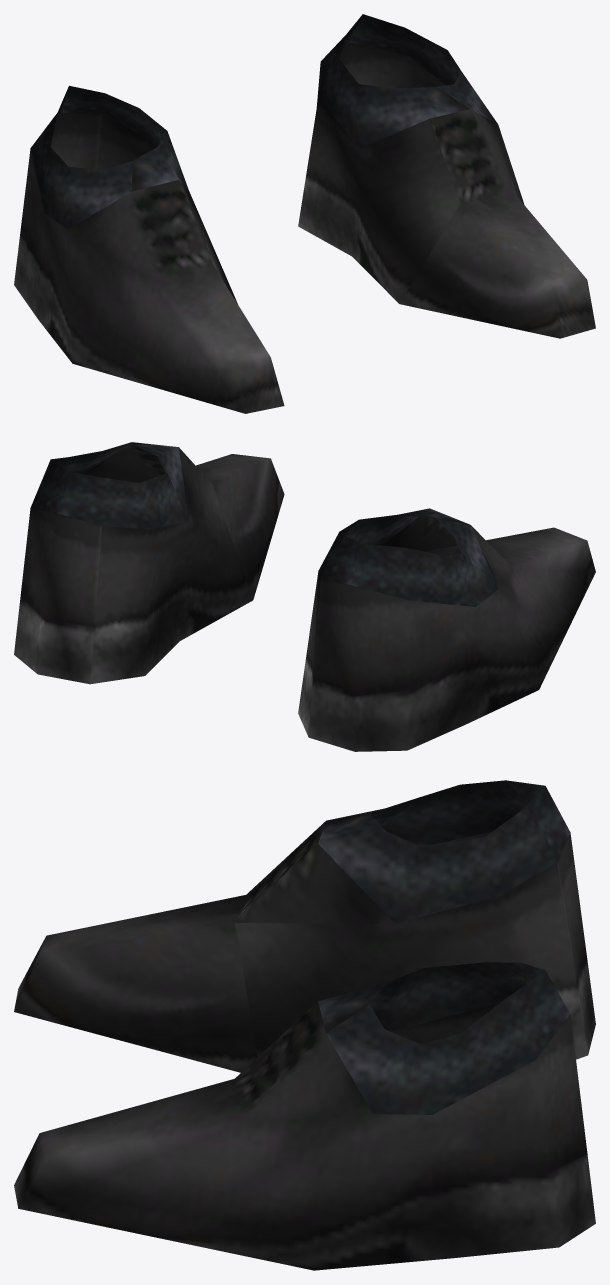
Rendered from m_Shoes1.glb.
The picture shows the model from 3 angles, top to bottom: view 1: azimuth 30°, elevation 25°; view 2: azimuth 150°, elevation 25°; view 3: azimuth 270°, elevation 25°; orthographic projection. The views are drawn at different scales.
Visible parts, largest first — view 1: Shoes1; view 2: Shoes1; view 3: Shoes1.
Part boxes in pixels (box(x1,y1,x2,y2)): Shoes1: box(14, 14, 595, 413); Shoes1: box(14, 442, 595, 751); Shoes1: box(14, 780, 595, 1270).
Size of the model in its own units: 19.7 by 7.72 by 16.54.
1 material, 1 textured.
